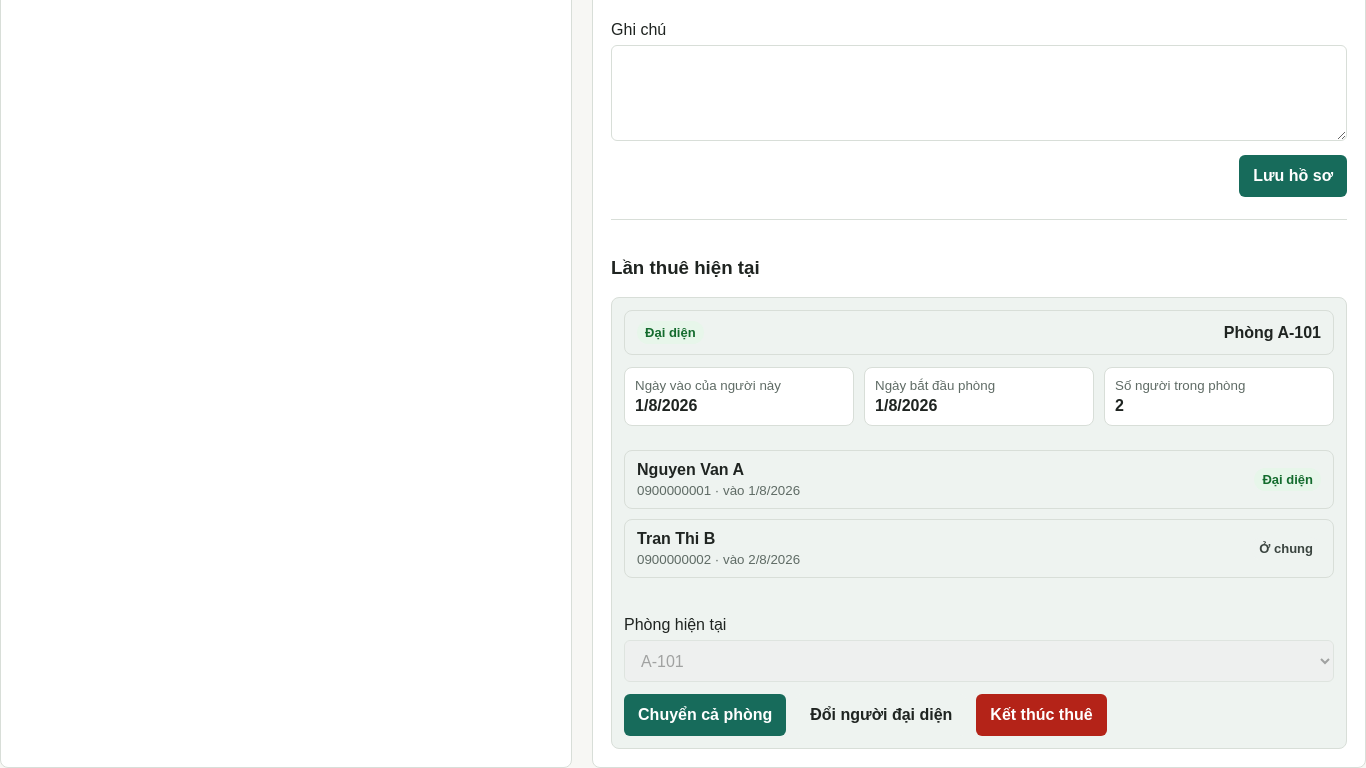
TenantsPage › shows tenancy credit as read-only in the whole-room close flow
(page scrolled)
Click the button "Kết thúc thuê". click: point(1042, 715)
box: [976,694,1107,736]
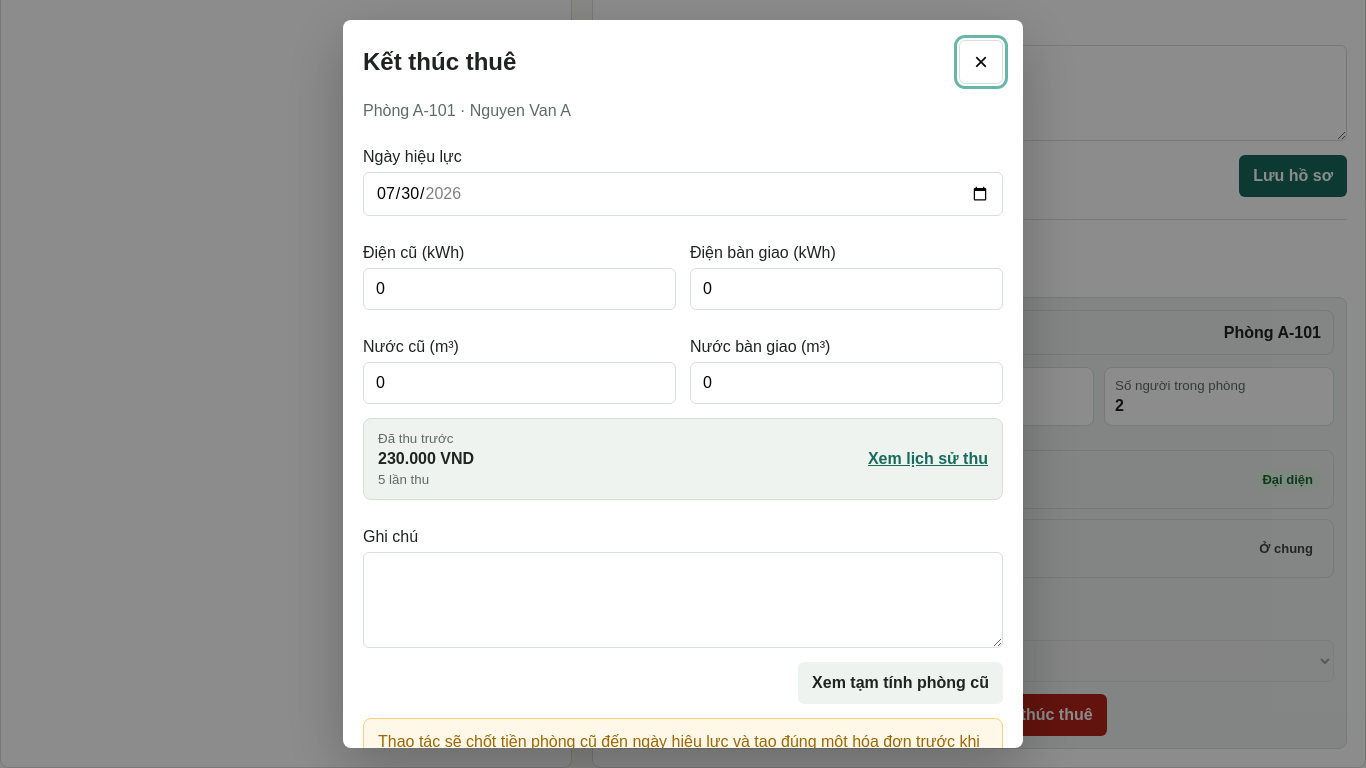
Expected: the text "230.000 VND" is shown, [378,450,474,468]
Expected: the text "5 lần thu" is shown, [378,472,429,487]
